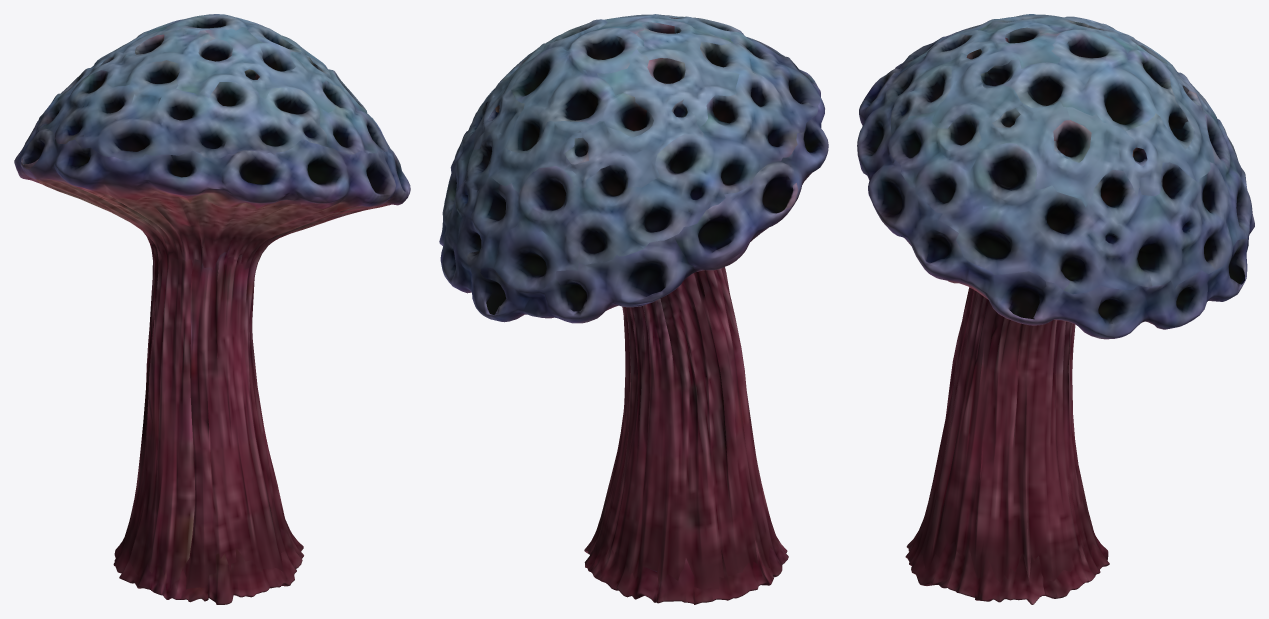
The model's file is MZ4250 - Shrieker Fungus_2025.glb.
3 renders of one model, left to right at view 1: azimuth 30°, elevation 25°; view 2: azimuth 150°, elevation 25°; view 3: azimuth 270°, elevation 25°, orthographic. The views are drawn at different scales.
Parts seen in each view (by area): view 1: Cylinder.001; view 2: Cylinder.001; view 3: Cylinder.001.
Boxes of the visible parts, x1,y1,x2,y2 form: Cylinder.001: [14, 14, 410, 604]; Cylinder.001: [439, 14, 828, 604]; Cylinder.001: [857, 14, 1254, 604].
Bounding box in the file's own units: 46 × 68.51 × 44.85.
1 material, 1 textured.
